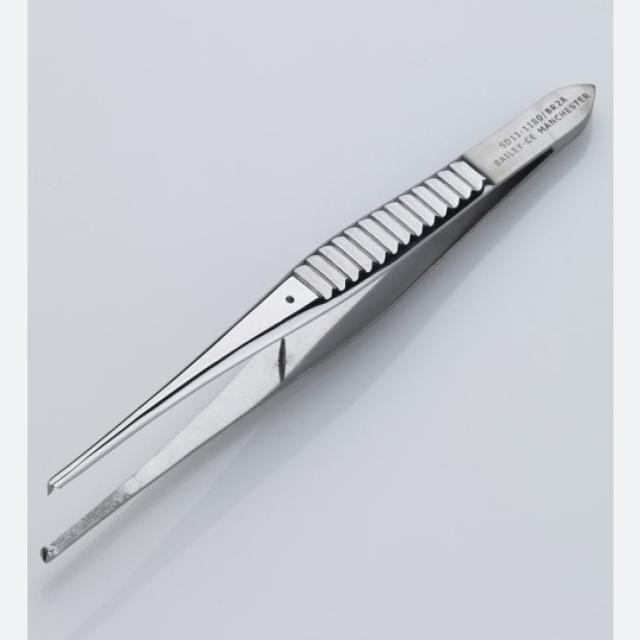Disscting Forceps -tooth-: (38, 70, 598, 567)
